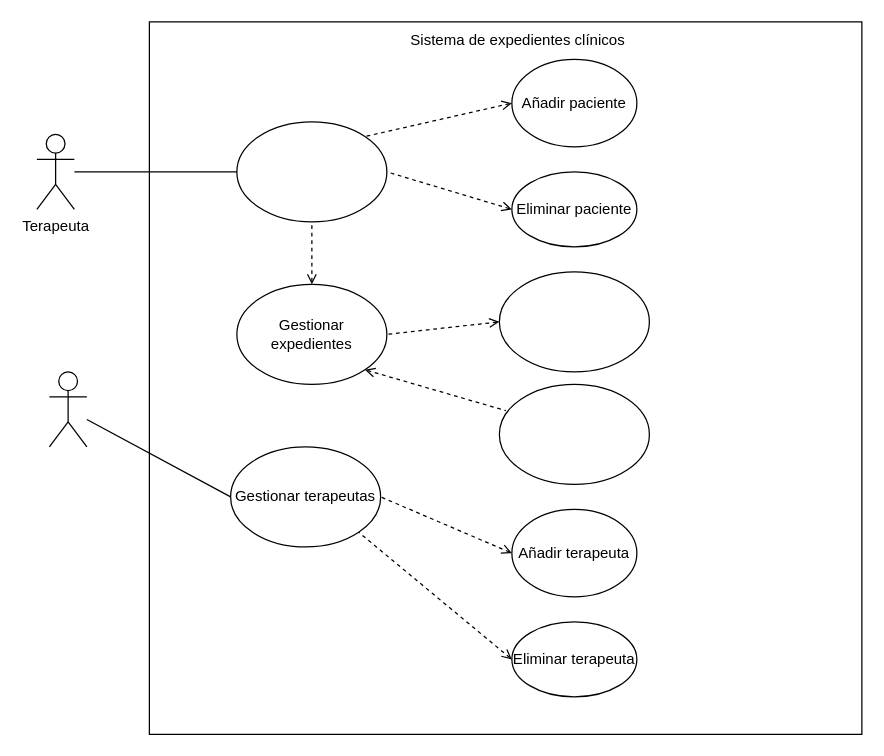
The diagram is 884 pixels wide and 756 high, and some of its shapes have lost their labels. The shapes that lost their labels are listed below. From the top down, each one's centre as x and y in pixels, then its label:
At pixel 311 171: "Gestionar lista de pacientes".
At pixel 573 321: "Modificar datos de los documentos".
At pixel 67 409: "Administrativo".
At pixel 573 433: "Imprimir documento específico".
